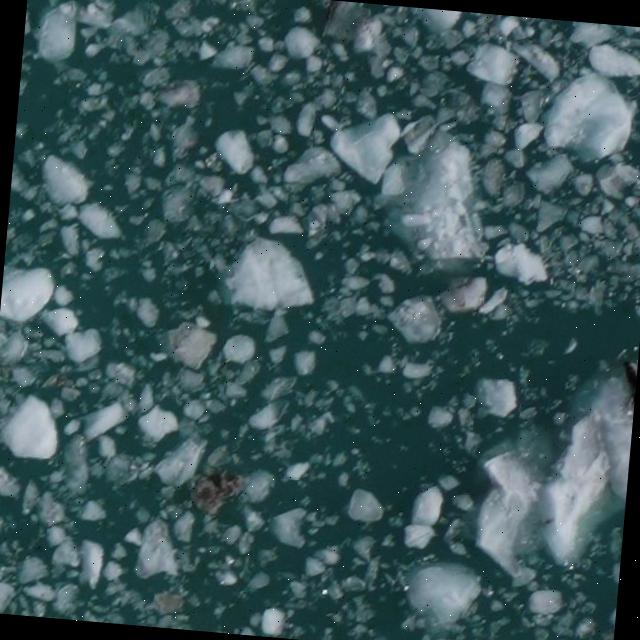seal: (621, 359, 637, 401)
